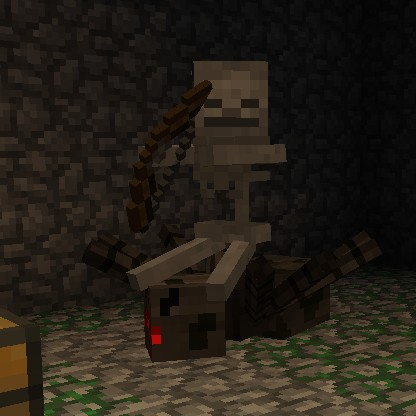skeleton: (172, 55, 300, 256)
